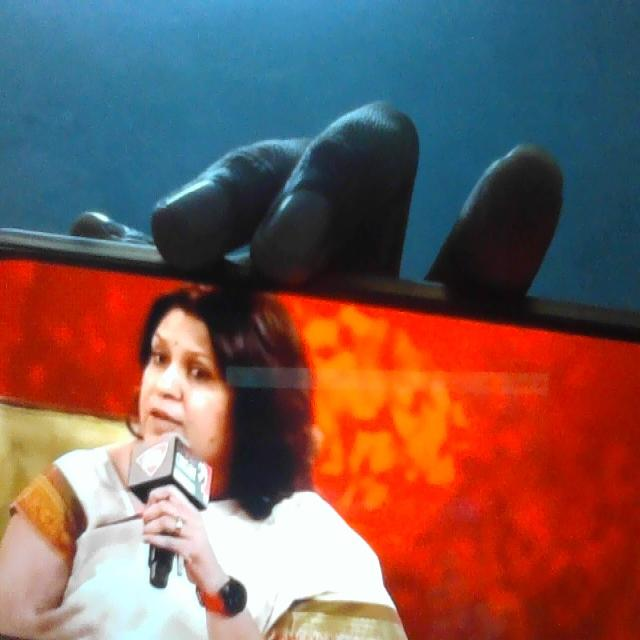fake: (137, 277, 246, 483)
